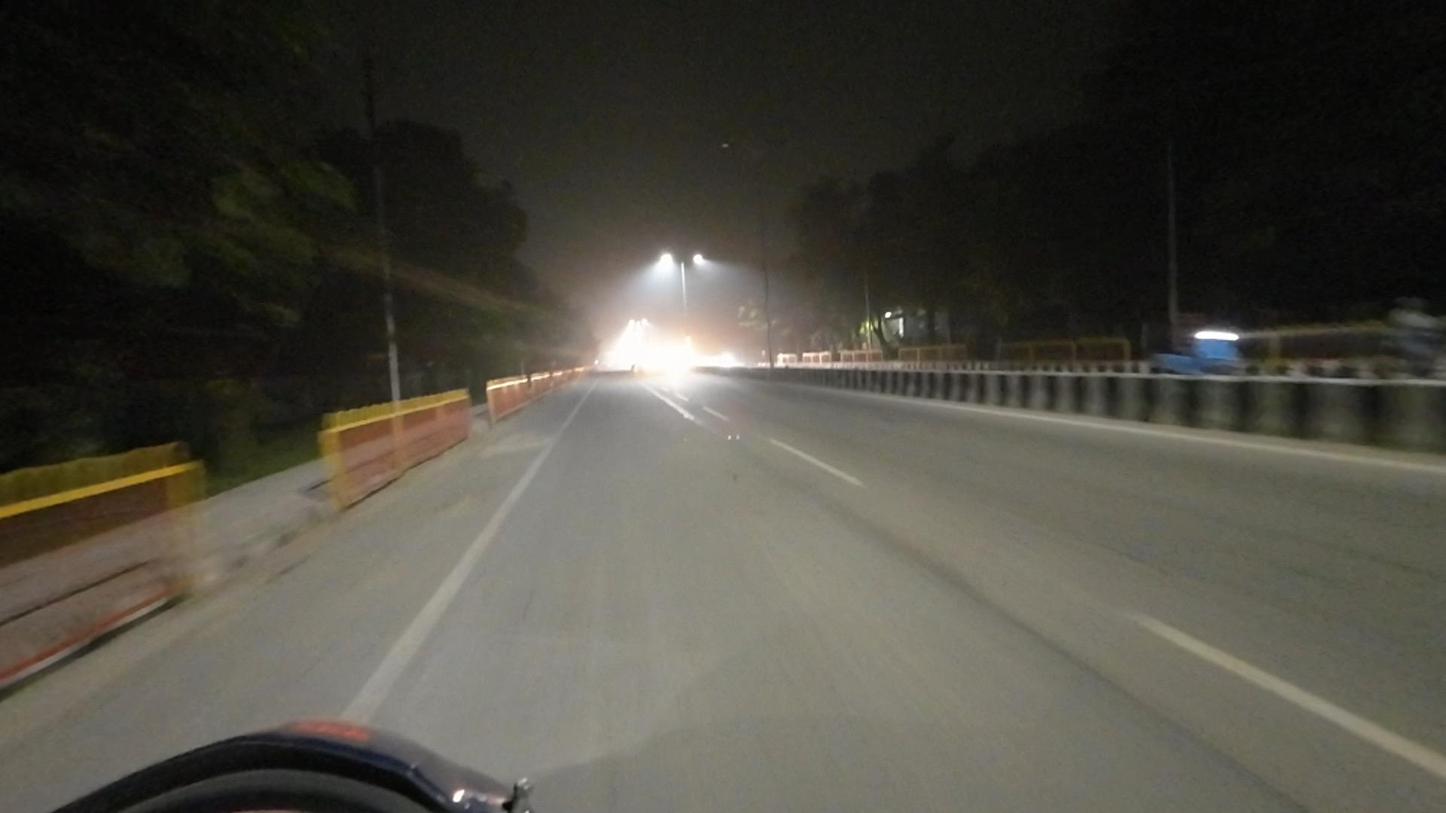streetlight: (722, 141, 749, 153)
